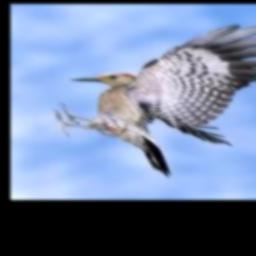Woodpecker: (52, 25, 256, 177)
